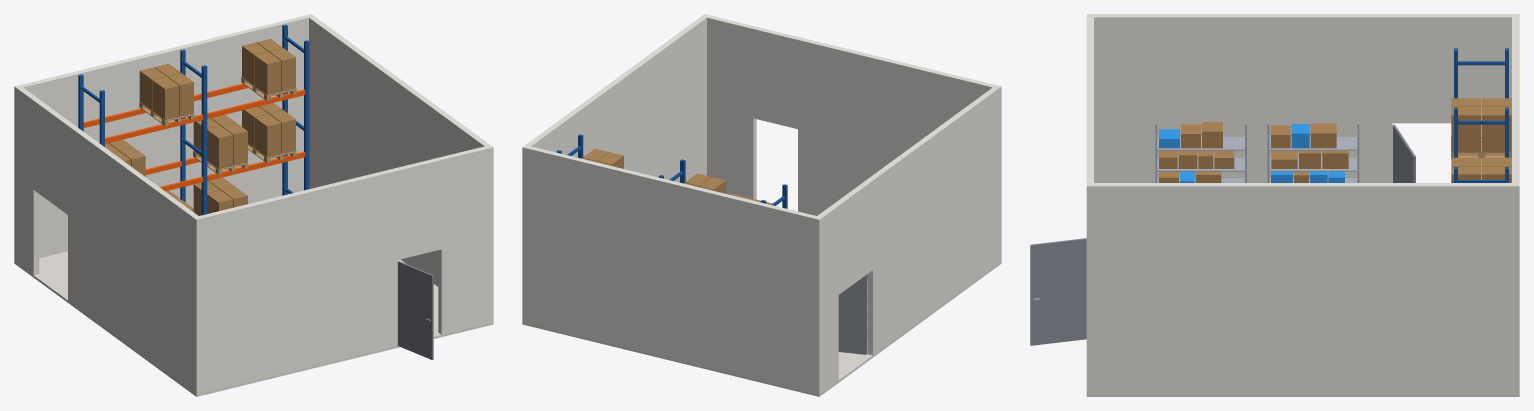
The model's file is mal-022.glb.
3 views of the same model, side by side, from view 1: azimuth 30°, elevation 25°; view 2: azimuth 150°, elevation 25°; view 3: azimuth 270°, elevation 25° (orthographic). The views are drawn at different scales.
Visible parts, largest first — view 1: mall_wall, cardboard, airline_blue, service_door, rim_orange, mall_floor, oak; view 2: mall_wall, service_door, mall_floor, cardboard, airline_blue; view 3: mall_wall, cardboard, service_door, steel, plastic_blue, airline_blue, mall_floor.
Boxes of the visible parts, left/top/right/bottom form: mall_wall: left=14, top=14, right=493, bottom=394; cardboard: left=99, top=38, right=295, bottom=215; airline_blue: left=78, top=24, right=309, bottom=215; service_door: left=397, top=261, right=433, bottom=359; rim_orange: left=83, top=83, right=305, bottom=191; mall_floor: left=14, top=251, right=493, bottom=396; oak: left=139, top=76, right=296, bottom=174; mall_wall: left=522, top=14, right=1001, bottom=394; service_door: left=838, top=274, right=866, bottom=354; mall_floor: left=522, top=261, right=1001, bottom=396; cardboard: left=582, top=148, right=867, bottom=278; airline_blue: left=556, top=134, right=787, bottom=208; mall_wall: left=1086, top=14, right=1519, bottom=394; cardboard: left=1159, top=98, right=1511, bottom=182; service_door: left=1030, top=124, right=1415, bottom=345; steel: left=1155, top=123, right=1359, bottom=182; plastic_blue: left=1159, top=124, right=1344, bottom=182; airline_blue: left=1454, top=48, right=1508, bottom=182; mall_floor: left=1086, top=394, right=1519, bottom=396.
Bounding box in the file's own units: 8 × 4.56 × 9.6.
